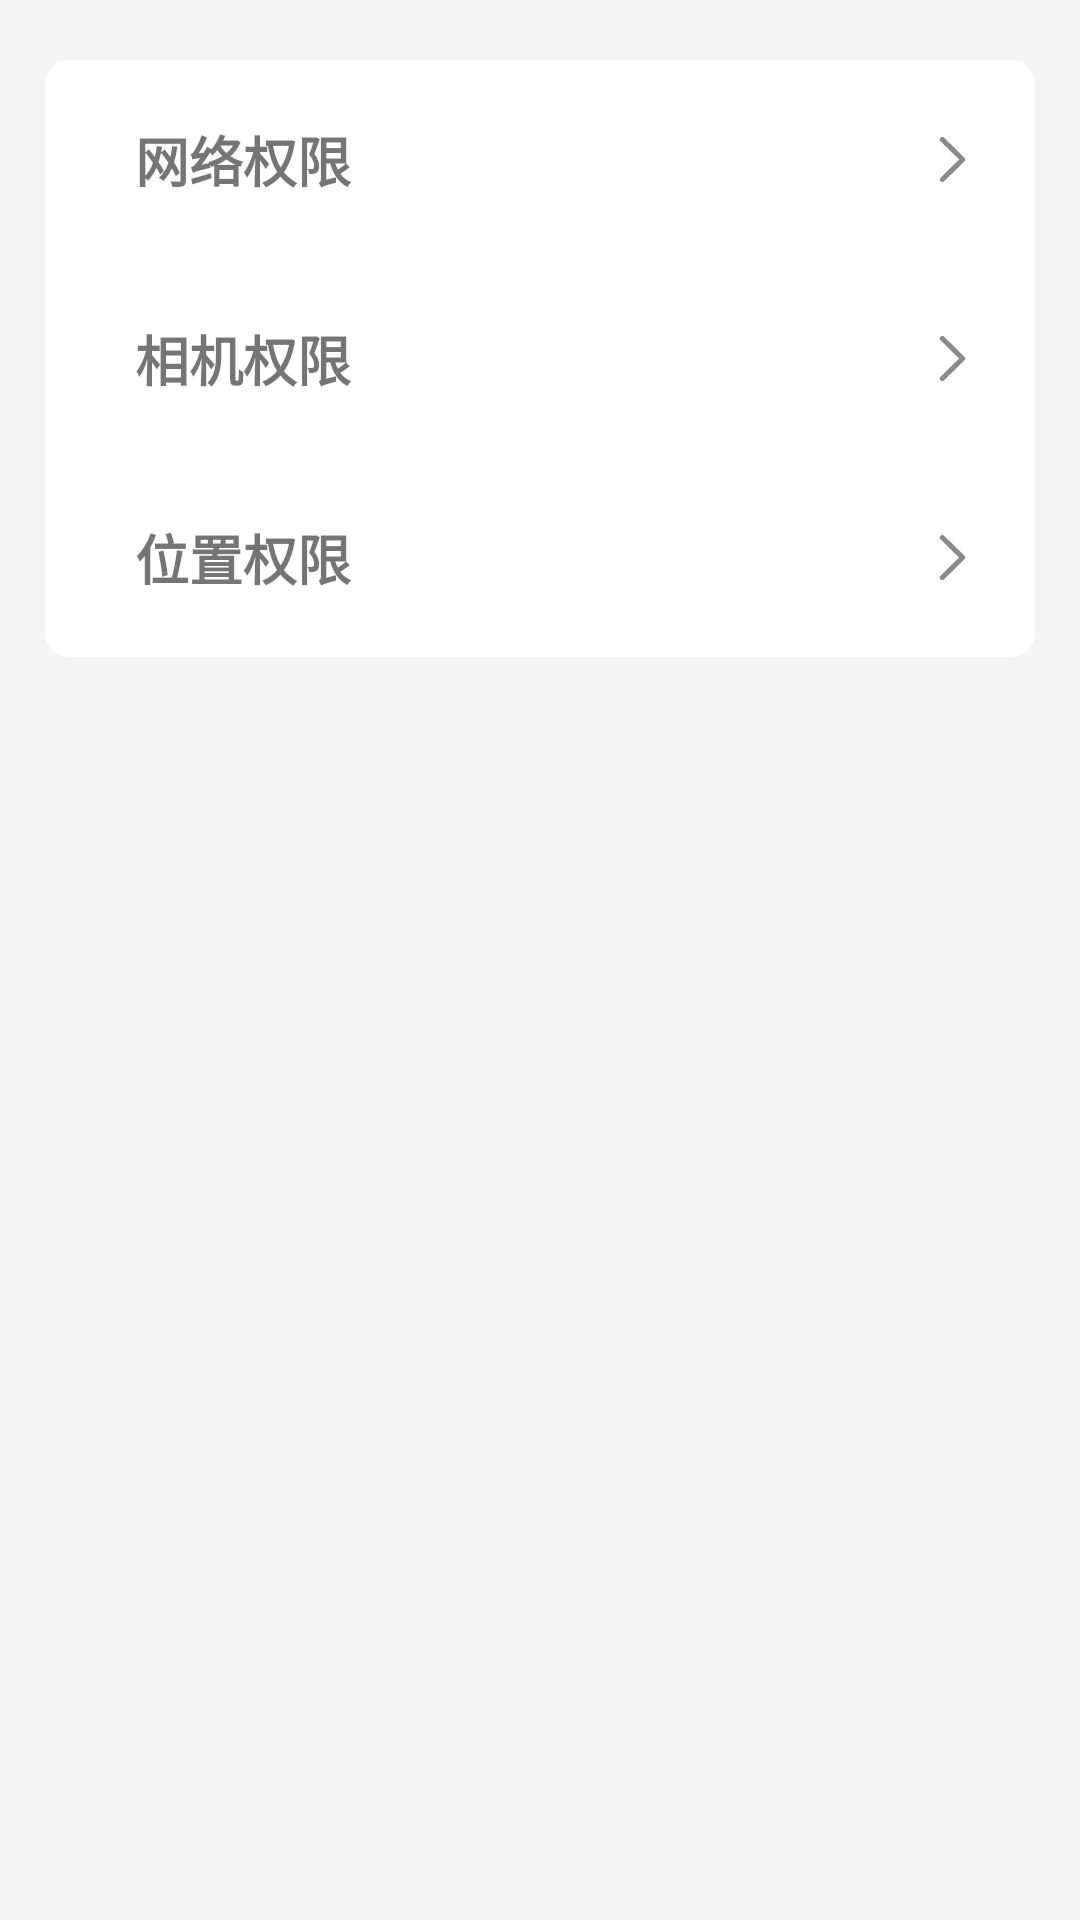

Screen size 1080 x 1920. Icon name, then its box in pixels as box(x1, y1, x2, y2):
user arrowright: box(939, 137, 966, 182), box(939, 336, 966, 381), box(939, 535, 966, 580)
